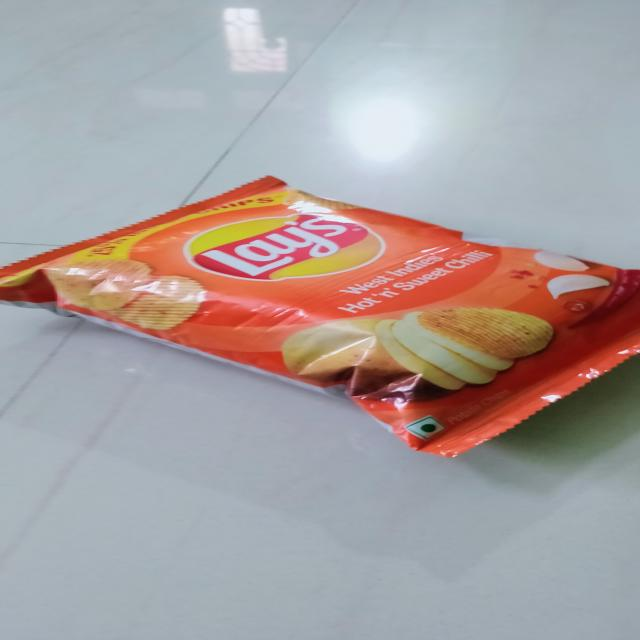lays: (0, 175, 640, 460)
